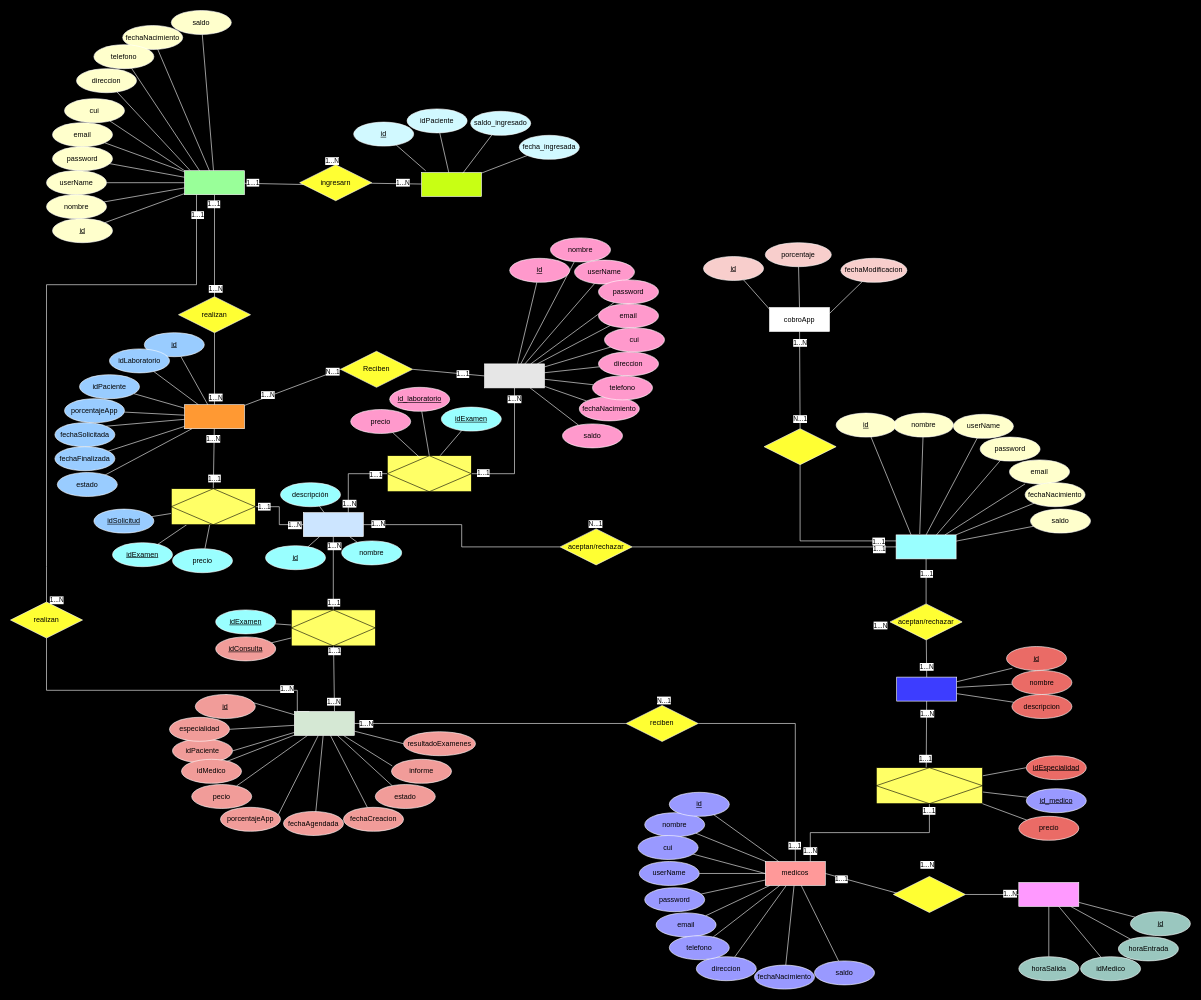
This 1201x1000 diagram has some shape labels left out. Here are the shapes that lost their labels. From the top down, the box of each, then its label:
(184, 170, 244, 195): pacientes
(421, 172, 482, 196): recargas
(484, 363, 544, 388): laboratorios
(184, 404, 244, 429): solicitudes
(764, 428, 836, 465): editar
(387, 455, 471, 492): examenes_laboratorios
(171, 488, 255, 525): examenes_solicitud
(303, 512, 363, 537): examenes
(896, 534, 956, 559): administrador
(291, 609, 375, 646): examenes_consulta
(896, 676, 957, 701): especialidades
(294, 711, 354, 735): consultas
(876, 767, 982, 804): especialidades_medicos
(893, 876, 965, 912): tienen
(1018, 882, 1079, 906): horarios
